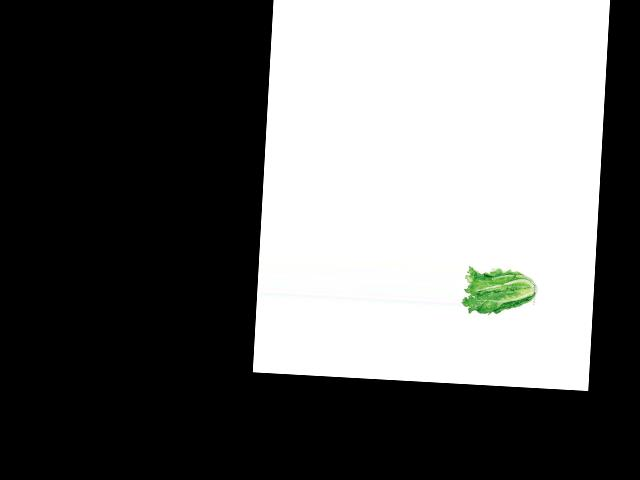lettuce: (461, 264, 536, 317)
